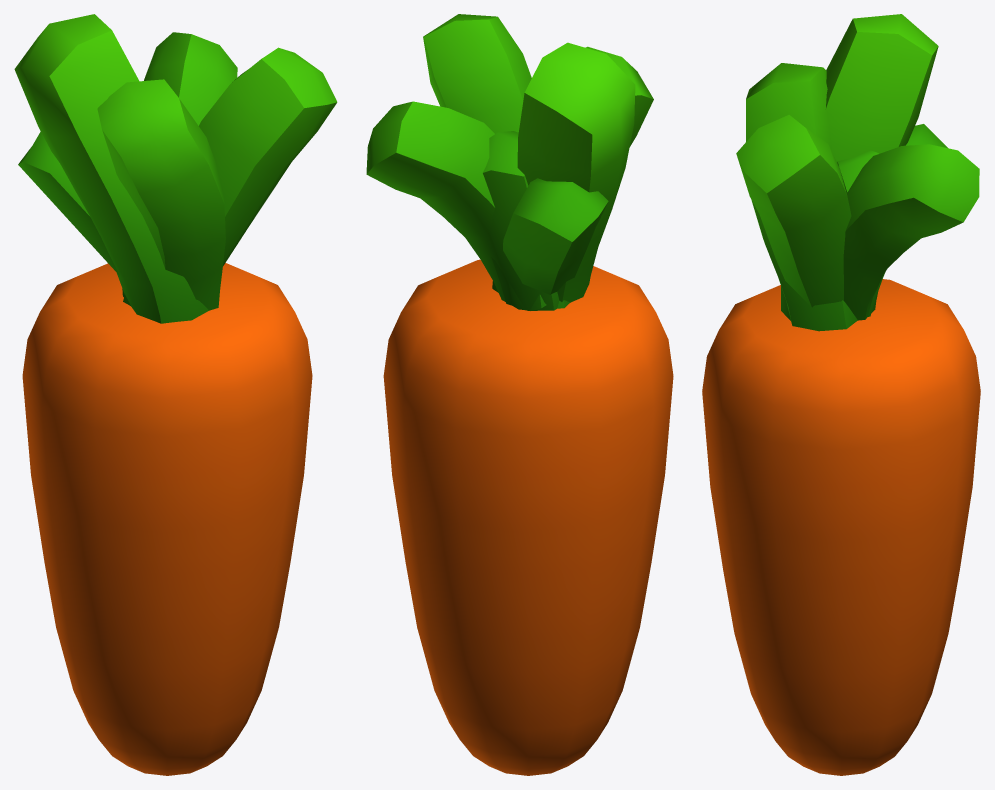
The model's file is Carrot_01.fbx.
3 renders of one model, left to right at view 1: azimuth 30°, elevation 25°; view 2: azimuth 150°, elevation 25°; view 3: azimuth 270°, elevation 25°, orthographic. The views are drawn at different scales.
Visible parts, largest first — view 1: Carrot_01; view 2: Carrot_01; view 3: Carrot_01.
Part boxes in pixels (<box>): Carrot_01: <box>14,14,337,775</box>; Carrot_01: <box>366,14,673,775</box>; Carrot_01: <box>702,14,980,775</box>.
Bounding box in the file's own units: 37.47 × 103 × 36.65.
